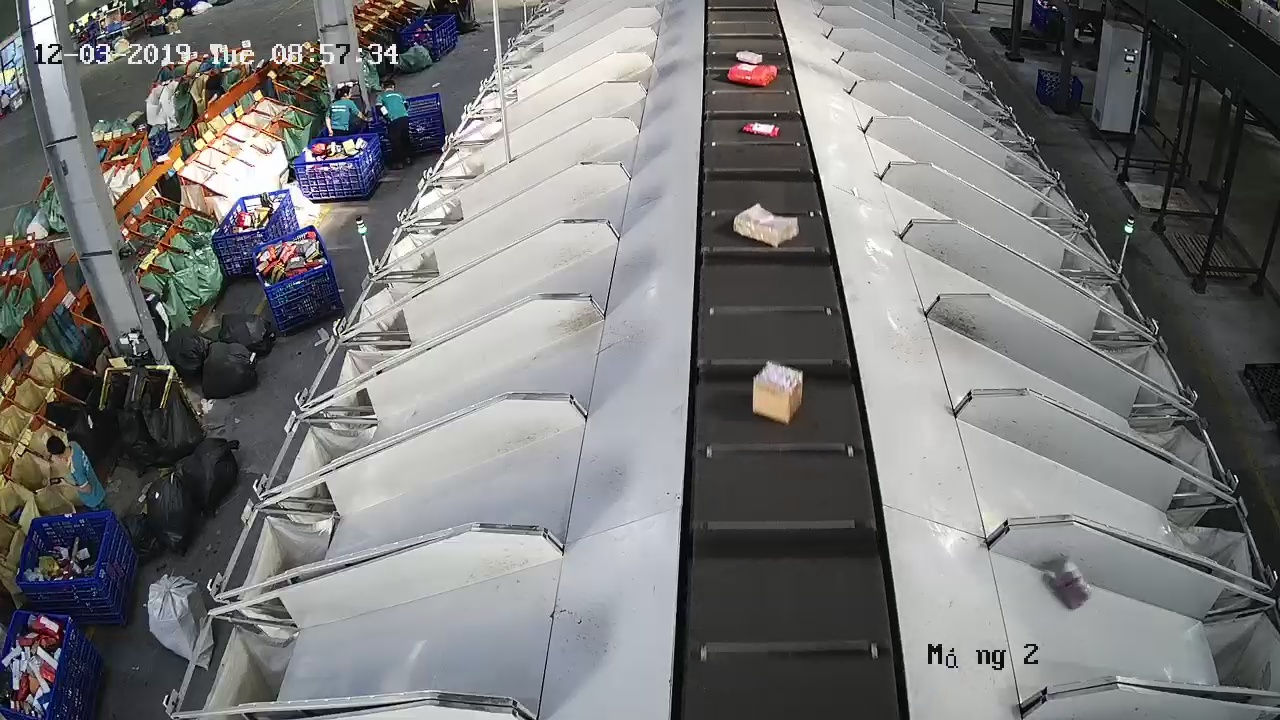parcel: (751, 359, 804, 427), (731, 201, 801, 248), (1054, 558, 1092, 611)
